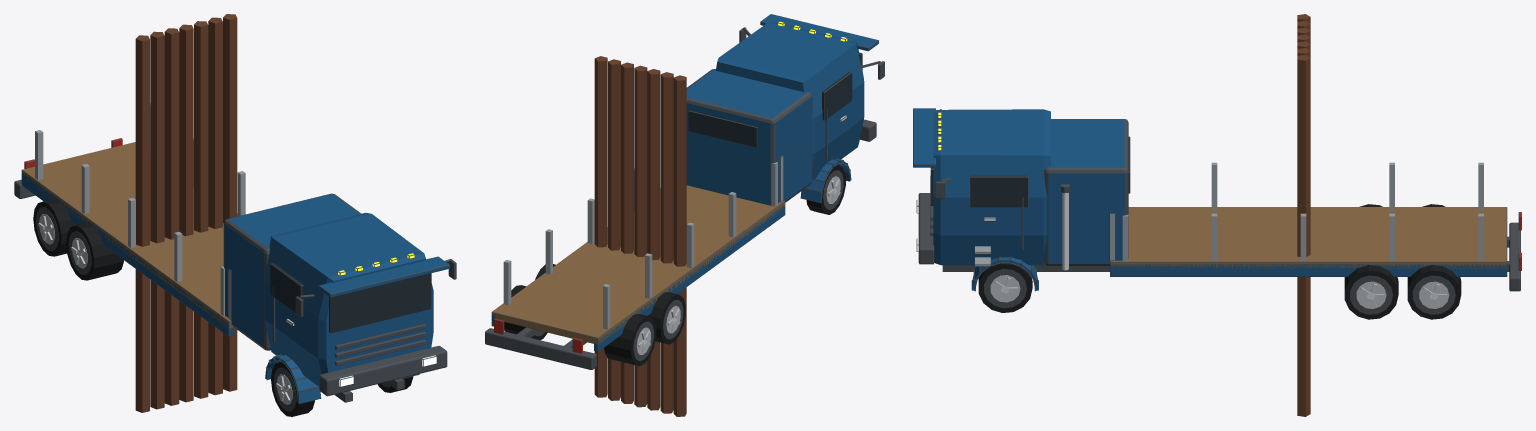
File: veh_pipe_truck.glb
3 views of the same model, side by side, from view 1: azimuth 30°, elevation 25°; view 2: azimuth 150°, elevation 25°; view 3: azimuth 270°, elevation 25° (orthographic). The views are drawn at different scales.
Visible parts, largest first — view 1: veh_pipe_truck; view 2: veh_pipe_truck; view 3: veh_pipe_truck.
Part boxes in pixels (bbox=[...]): veh_pipe_truck: bbox=[14, 14, 456, 416]; veh_pipe_truck: bbox=[485, 14, 884, 416]; veh_pipe_truck: bbox=[913, 14, 1521, 416].
Bounding box in the file's own units: 3.3 × 7.52 × 11.64.
